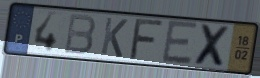4: (33, 10, 60, 54)
B: (62, 13, 97, 57)
E: (160, 19, 200, 66)
F: (127, 18, 167, 62)
K: (99, 15, 130, 59)
X: (192, 22, 233, 70)
